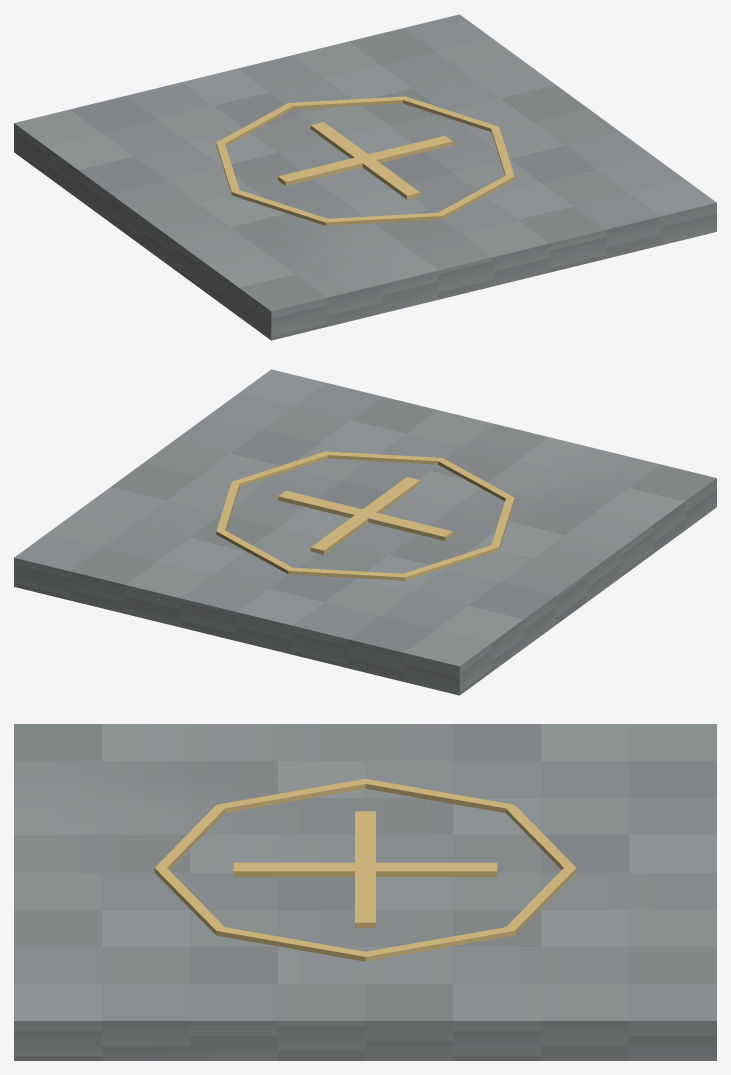
Rendered from dungeon-room-builder-floor-rune-379e8b59__25736.glb.
3 renders of one model, top to bottom at view 1: azimuth 30°, elevation 25°; view 2: azimuth 150°, elevation 25°; view 3: azimuth 270°, elevation 25°, orthographic. The views are drawn at different scales.
Visible parts, largest first — view 1: floor-rune; view 2: floor-rune; view 3: floor-rune.
Part boxes in pixels (x1,y1,x2,y2): floor-rune: (14,14,716,340); floor-rune: (14,369,716,695); floor-rune: (14,724,716,1060).
Bounding box in the file's own units: 4 × 0.2849 × 4.
Materials: 2 (1 with a texture image).
